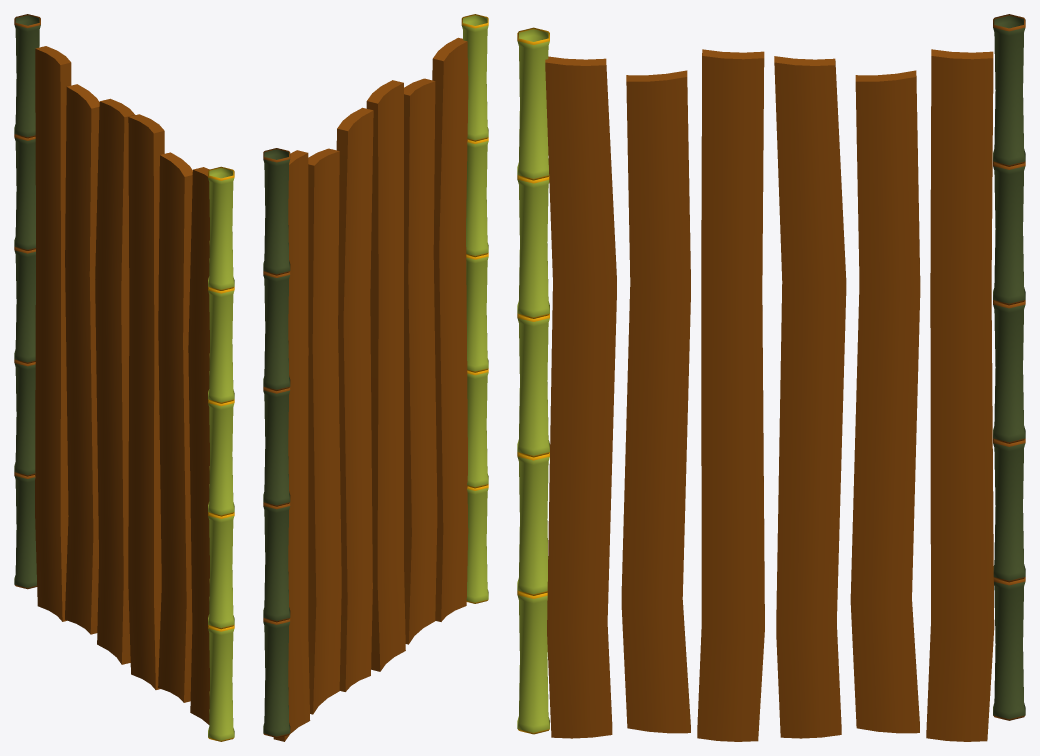
The model's file is Jungle_Wall_02.fbx.
3 renders of one model, left to right at view 1: azimuth 30°, elevation 25°; view 2: azimuth 150°, elevation 25°; view 3: azimuth 270°, elevation 25°, orthographic. The views are drawn at different scales.
Parts seen in each view (by area): view 1: Jungle_Wall_02; view 2: Jungle_Wall_02; view 3: Jungle_Wall_02.
Part boxes in pixels (x1,y1,x2,y2): Jungle_Wall_02: [14, 14, 234, 741]; Jungle_Wall_02: [263, 14, 488, 741]; Jungle_Wall_02: [517, 14, 1025, 741].
Bounding box in the file's own units: 0.2638 × 5.15 × 3.33.
